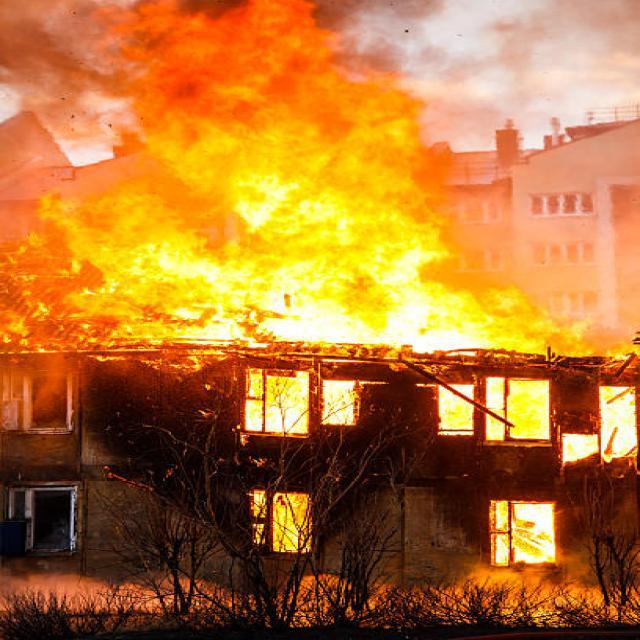Fire: (71, 166, 532, 345)
Smoke: (4, 0, 446, 230), (154, 13, 420, 205)
